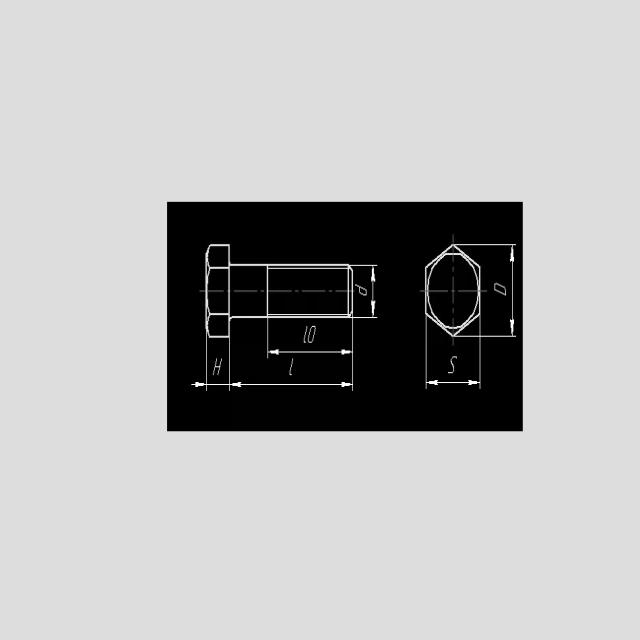marking_line: (229, 379, 353, 390), (268, 348, 352, 357), (509, 245, 517, 338), (427, 379, 480, 389), (191, 381, 244, 389), (369, 267, 377, 316)
